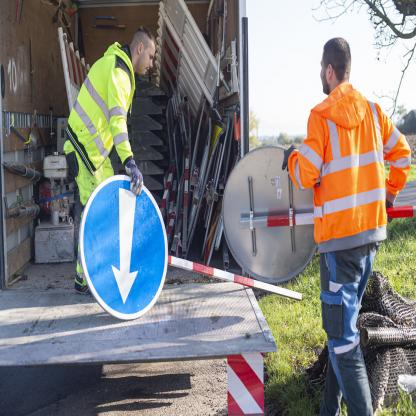person: (278, 28, 416, 410), (51, 12, 180, 317)
